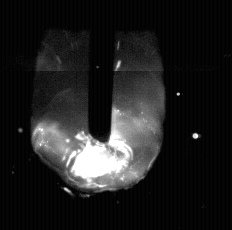arame: (88, 0, 112, 144)
poca: (30, 0, 163, 230)
